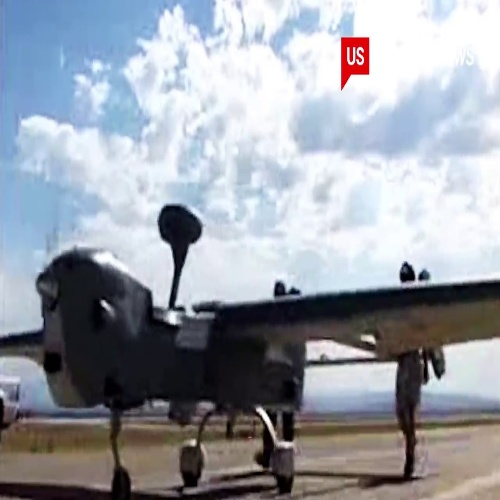uav: (2, 201, 500, 492)
